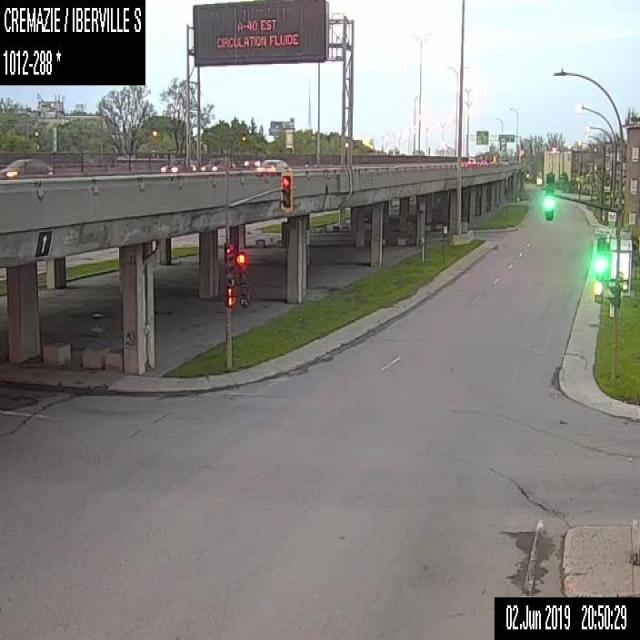vehicle: (0, 156, 53, 179), (159, 156, 196, 172), (200, 156, 235, 171), (256, 158, 291, 170), (243, 155, 262, 169), (466, 156, 476, 164), (480, 157, 488, 165)
